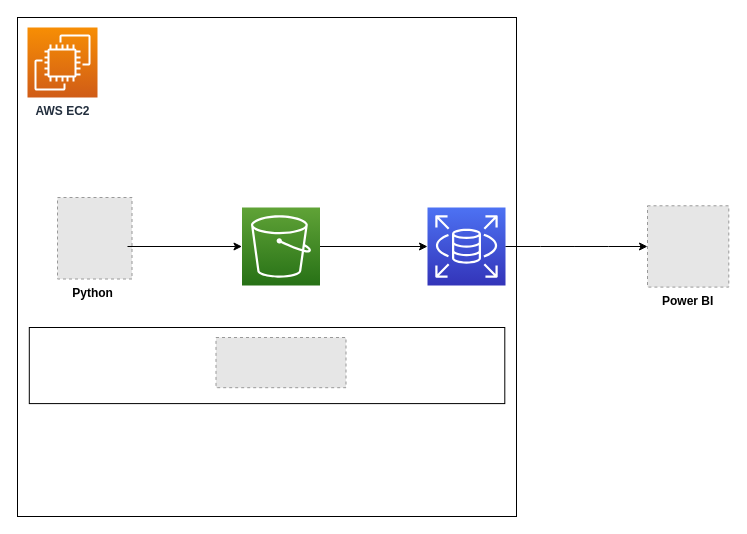
This 747x534 diagram has some shape labels left out. Grey dashed boxes stand in for pictures. Here are the shapes that lost their labels. From the top down, the centre of each, then its label:
At pixel 280 246: "S3 Bucket".
At pixel 466 246: "AWS RDS".
